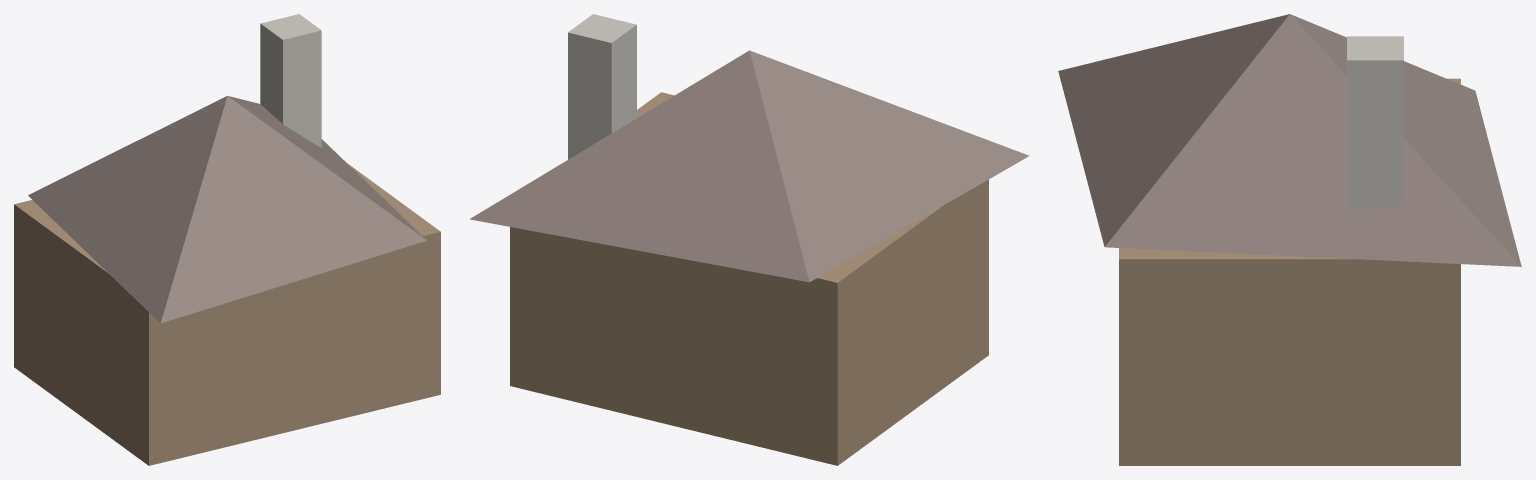
Rendered from cabin.glb.
3 renders of one model, left to right at view 1: azimuth 30°, elevation 25°; view 2: azimuth 150°, elevation 25°; view 3: azimuth 270°, elevation 25°, orthographic. The views are drawn at different scales.
Visible parts, largest first — view 1: walls, roof, chimney; view 2: walls, roof, chimney; view 3: roof, walls, chimney.
Boxes of the visible parts, x1,y1,x2,y2 form: walls: (14,163,440,465); roof: (28,96,426,323); chimney: (260,14,321,147); walls: (510,92,988,465); roof: (470,50,1029,282); chimney: (568,14,636,159); roof: (1058,14,1521,266); walls: (1119,78,1460,465); chimney: (1347,36,1403,209).
Bounding box in the file's own units: 3.25 × 3 × 3.25.
